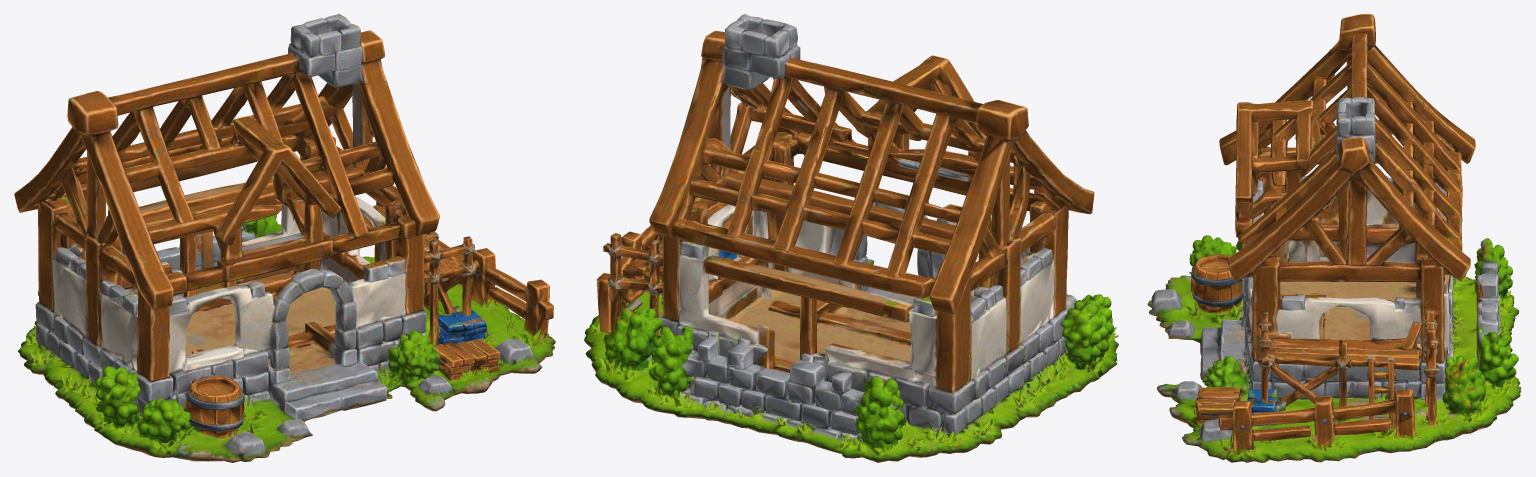
The model's file is casa_e2.glb.
3 renders of one model, left to right at view 1: azimuth 30°, elevation 25°; view 2: azimuth 150°, elevation 25°; view 3: azimuth 270°, elevation 25°, orthographic. The views are drawn at different scales.
Size of the model in its own units: 1.9 by 1.27 by 1.52.
Materials: 1 (1 with a texture image).
